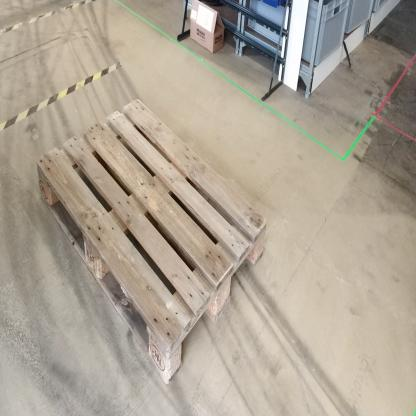BoxFace: (38, 93, 270, 394)
